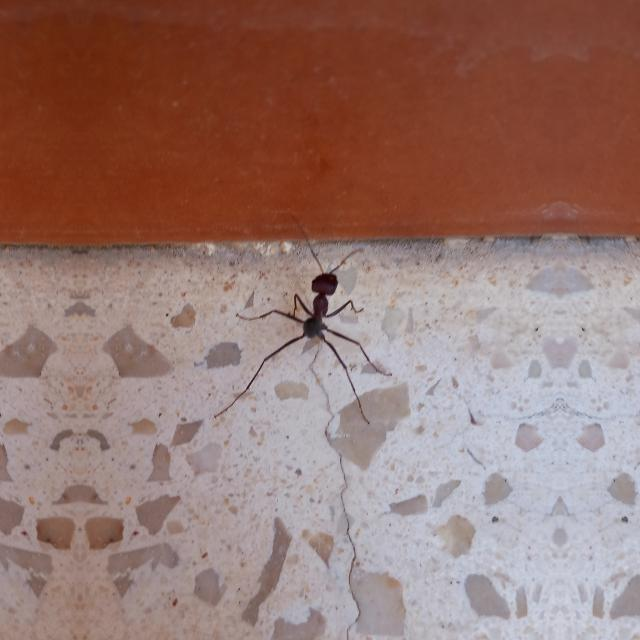Cataglyphis: (274, 252, 360, 384)
